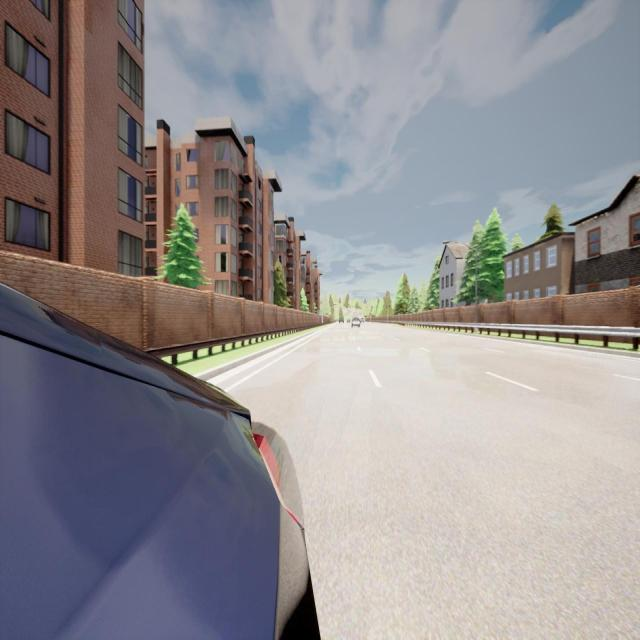Vehicle: (0, 283, 318, 637), (351, 316, 361, 329), (338, 316, 344, 324), (360, 317, 366, 323), (347, 319, 351, 324)
